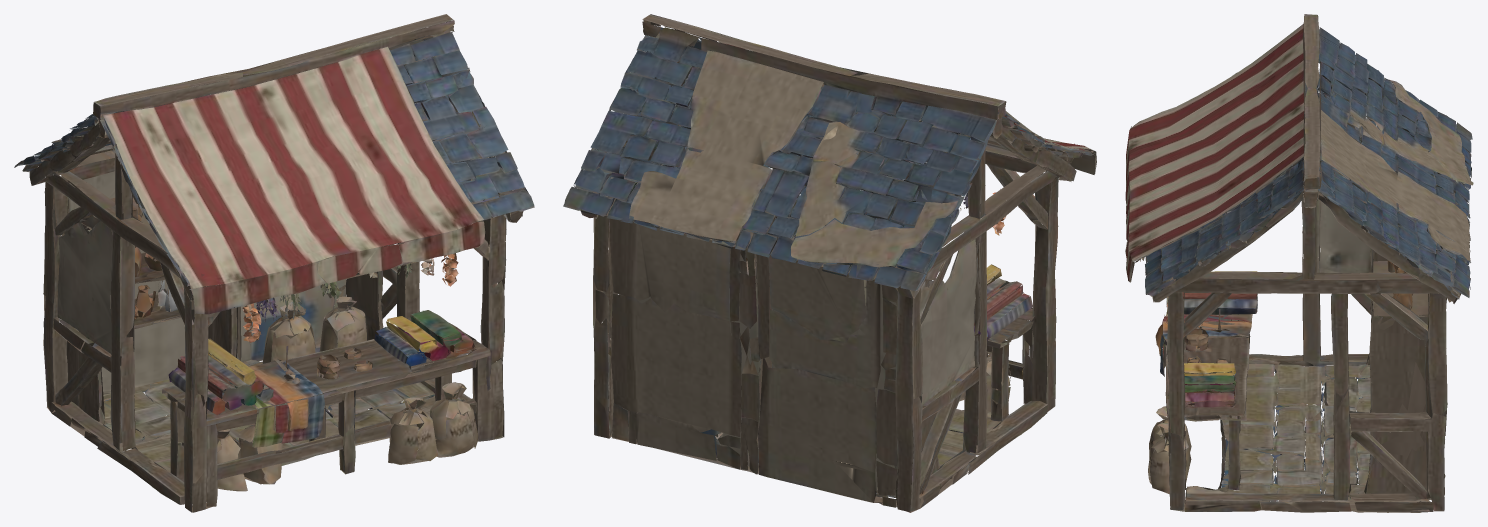
File: etal_rouge.glb
3 views of the same model, side by side, from view 1: azimuth 30°, elevation 25°; view 2: azimuth 150°, elevation 25°; view 3: azimuth 270°, elevation 25° (orthographic). The views are drawn at different scales.
Visible parts, largest first — view 1: etal_rouge; view 2: etal_rouge; view 3: etal_rouge.
Boxes of the visible parts, x1,y1,x2,y2 form: etal_rouge: [14, 14, 534, 512]; etal_rouge: [563, 14, 1096, 512]; etal_rouge: [1125, 14, 1473, 512].
Size of the model in its own units: 3.6 by 3.51 by 3.22.
1 material, 1 textured.
